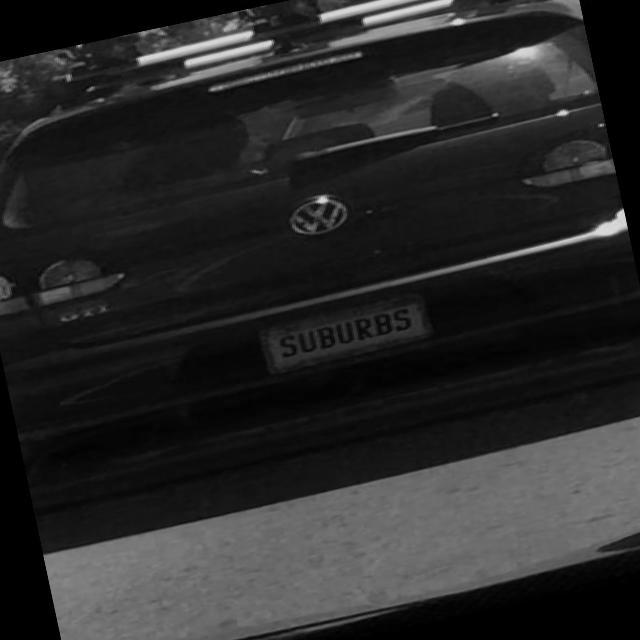LicensePlate: (255, 290, 435, 378)
